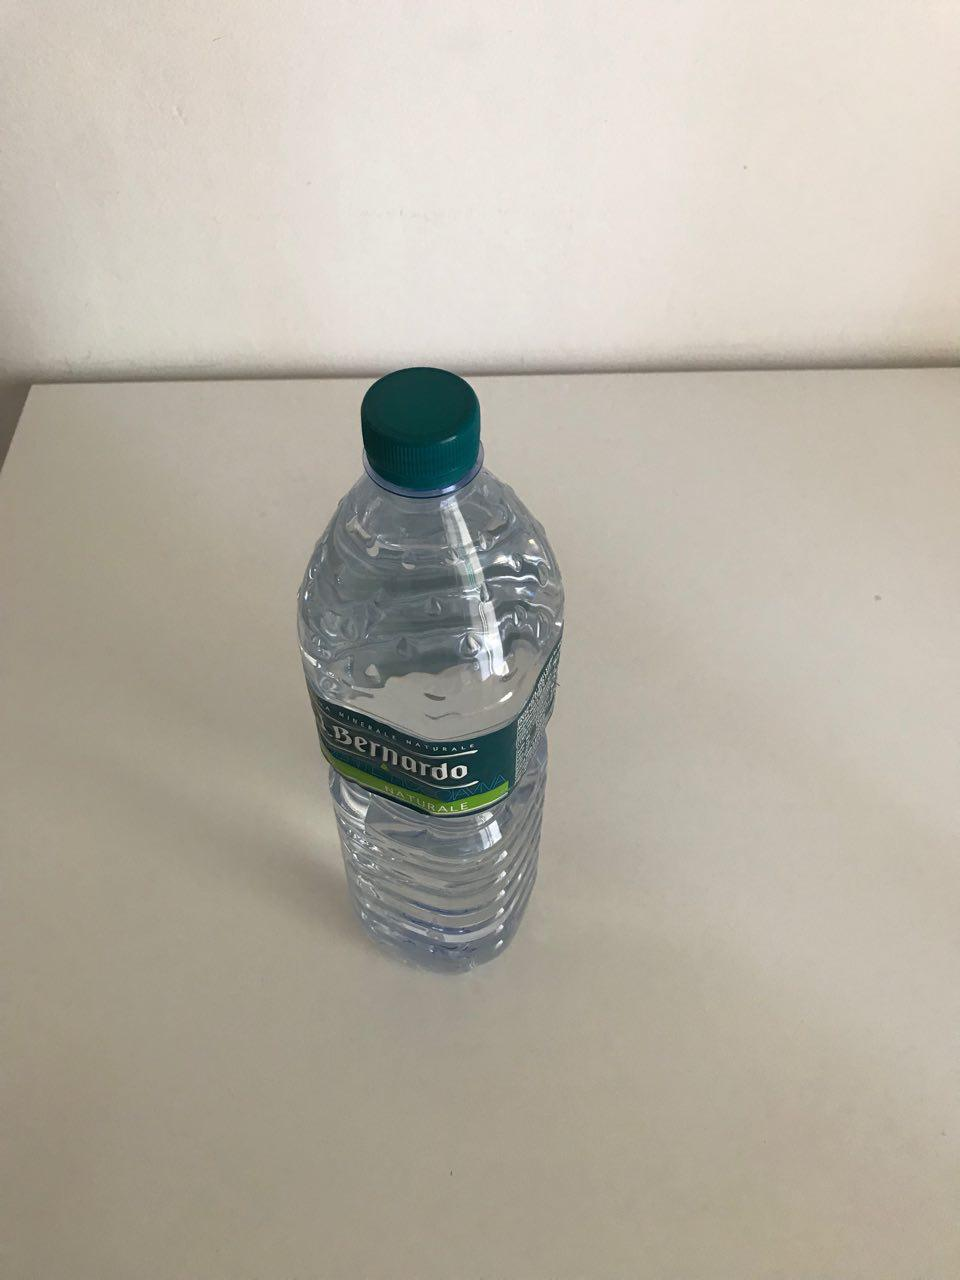san_bernardo: (294, 366, 569, 978)
